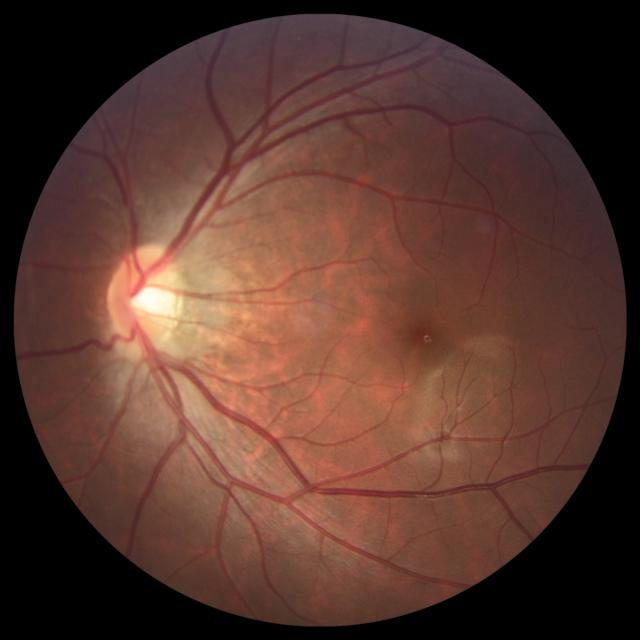OC: (127, 279, 169, 321)
OD: (105, 242, 183, 352)
